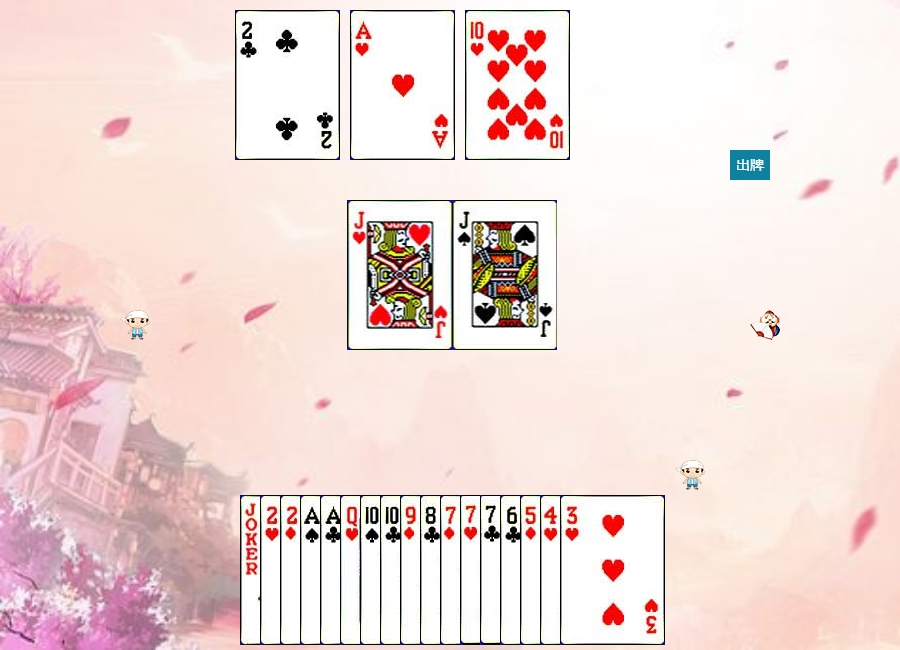10~2: (380, 495, 485, 645)
10~3: (465, 10, 570, 160)
10~4: (360, 495, 465, 645)
11~3: (348, 200, 453, 350)
11~4: (453, 200, 558, 350)
12~3: (340, 495, 445, 645)
14~2: (320, 495, 425, 645)
14~3: (350, 10, 455, 160)
14~4: (300, 495, 405, 645)
15~1: (280, 495, 385, 645)
15~2: (235, 10, 340, 160)
15~3: (260, 495, 365, 645)
18~4: (240, 495, 345, 645)
3~3: (560, 495, 665, 645)
4~3: (540, 495, 645, 645)
5~1: (520, 495, 625, 645)
6~2: (500, 495, 605, 645)
7~1: (440, 495, 545, 645)
7~2: (480, 495, 585, 645)
7~3: (460, 495, 565, 645)
8~2: (420, 495, 525, 645)
9~1: (400, 495, 505, 645)
